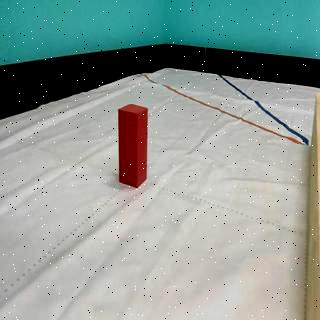redbox: (117, 102, 147, 187)
